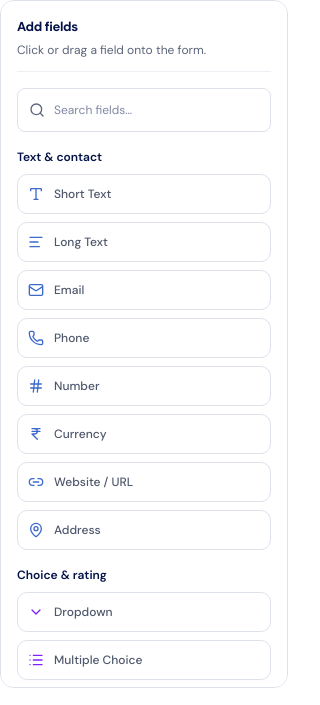
Test: Toolbox › shows a no-match message
The width and height of the screenshot is (320, 705).
Type "zzzz" into the search field at coordinates (144, 110), box [17,88,271,132]
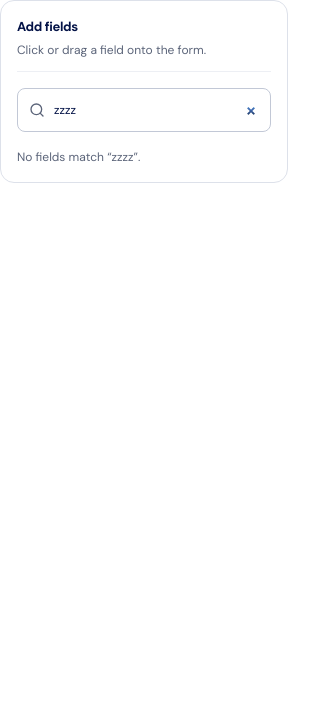
Expected: the text "No fields match “zzzz”." is shown, [17,149,140,165]
